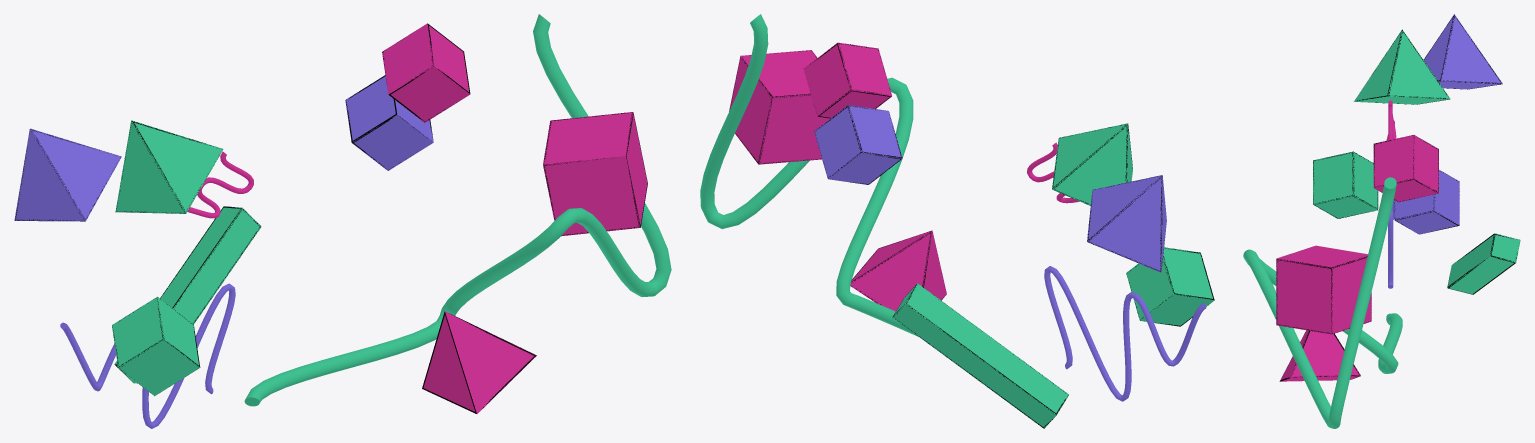
The model's file is backgroundShapes.gltf.
3 renders of one model, left to right at view 1: azimuth 30°, elevation 25°; view 2: azimuth 150°, elevation 25°; view 3: azimuth 270°, elevation 25°, orthographic. The views are drawn at different scales.
Parts seen in each view (by area): view 1: BezierCurve.002, cubePurple002, pyramidPurple, pyramid001, pyramid001.002, cubePiunk.002, cubePiunk, blockBlue, cubePurple, BezierCurve.001, BezierCurve, pyramid001.003 (+2 smaller); view 2: BezierCurve.002, blockBlue, cubePurple002, pyramidPurple, cubePurple, cubePiunk, pyramid001, pyramid001.002, cubePiunk.002, BezierCurve.001, blockBlue.001, pyramidPurple.001 (+1 smaller); view 3: BezierCurve.002, cubePurple002, pyramid001, cubePiunk.002, cubePiunk, pyramidPurple, blockBlue, cubePurple, pyramid001.002, BezierCurve.001, cubePurple002.001, pyramid001.001 (+3 smaller).
Part boxes in pixels (x1,y1,x2,y2): BezierCurve.002: (244,14,671,406); cubePurple002: (543,112,647,236); pyramidPurple: (14,128,121,221); pyramid001: (115,120,223,213); pyramid001.002: (422,311,536,413); cubePiunk.002: (112,296,199,396); cubePiunk: (382,23,469,122); blockBlue: (114,206,261,383); cubePurple: (345,75,433,170); BezierCurve.001: (60,283,235,428); BezierCurve: (187,151,253,218); pyramid001.003: (422,311,536,413); BezierCurve.002: (700,14,918,336); blockBlue: (893,283,1068,428); cubePurple002: (729,50,829,164); pyramidPurple: (1087,175,1166,272); cubePurple: (814,105,902,184); cubePiunk: (803,42,891,118); pyramid001: (1052,123,1132,205); pyramid001.002: (850,230,946,311); cubePiunk.002: (1126,247,1214,326); BezierCurve.001: (1044,266,1206,401); blockBlue.001: (892,284,1068,428); pyramidPurple.001: (1087,175,1165,271); BezierCurve.002: (1243,177,1402,428); cubePurple002: (1276,245,1371,334); pyramid001: (1354,30,1450,104); cubePiunk.002: (1313,151,1378,218); cubePiunk: (1373,135,1438,202); pyramidPurple: (1424,14,1502,89); blockBlue: (1447,233,1520,294); cubePurple: (1394,170,1459,234); pyramid001.002: (1280,330,1360,381); BezierCurve.001: (1388,200,1394,288); cubePurple002.001: (1276,251,1371,334); pyramid001.001: (1356,29,1449,104).
Bounding box in the file's own units: 4.11 × 2.24 × 2.12.
